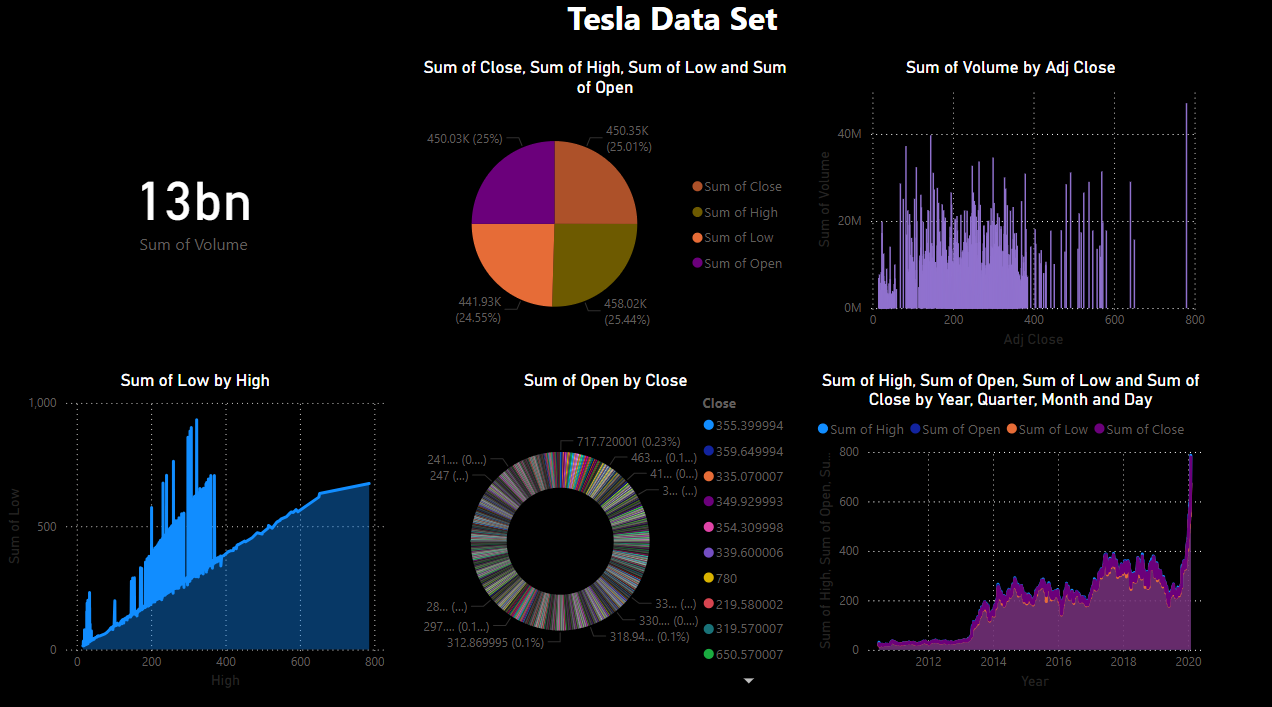

What the dashboard file says about the page in this screenshot:
{"tool":"powerbi","page":{"name":"Page 1","canvas":[1280,720],"ordinal":0},"visuals":[{"type":"card","fields":{"Values":["Sum(TSLA(in).Volume)"]},"box":[4.1,65.9,384.2,293.7],"z":0},{"type":"areaChart","fields":{"Category":["TSLA(in).High"],"Y":["Sum(TSLA(in).Low)"]},"box":[4.1,377.4,387,322.5],"z":1000},{"type":"donutChart","fields":{"Category":["TSLA(in).Close"],"Y":["Sum(TSLA(in).Open)"]},"box":[414.4,377.4,382.8,322.5],"z":2000},{"type":"pieChart","fields":{"Y":["Sum(TSLA(in).Close)","Sum(TSLA(in).High)","Sum(TSLA(in).Low)","Sum(TSLA(in).Open)"]},"box":[414.4,65.9,381.5,293.7],"z":3000},{"type":"areaChart","fields":{"Y":["Sum(TSLA(in).High)","Sum(TSLA(in).Open)","Sum(TSLA(in).Low)","Sum(TSLA(in).Close)"],"Category":["TSLA(in).Date.Variation.Date Hierarchy.Year","TSLA(in).Date.Variation.Date Hierarchy.Quarter","TSLA(in).Date.Variation.Date Hierarchy.Month","TSLA(in).Date.Variation.Date Hierarchy.Day"]},"box":[811,377.4,395.2,322.5],"z":4000},{"type":"clusteredColumnChart","fields":{"Category":["TSLA(in).Adj Close"],"Y":["Sum(TSLA(in).Volume)"]},"box":[809.6,65.9,397.9,293.7],"z":5000},{"type":"textbox","box":[238.8,0,875.5,65.9],"z":6000}]}

Visuals, with their boxes in screenshot pixels (x1, y1, x2, y2), scaled from the page's 1280x720 canvas onto the 1272x707 screenshot:
card - Sum(TSLA(in).Volume): pyautogui.locateOnScreen(4, 65, 386, 353)
areaChart - TSLA(in).High x Sum(TSLA(in).Low): pyautogui.locateOnScreen(4, 371, 389, 687)
donutChart - TSLA(in).Close x Sum(TSLA(in).Open): pyautogui.locateOnScreen(412, 371, 792, 687)
pieChart - Sum(TSLA(in).Close) x Sum(TSLA(in).High): pyautogui.locateOnScreen(412, 65, 791, 353)
areaChart - Sum(TSLA(in).High) x Sum(TSLA(in).Open): pyautogui.locateOnScreen(806, 371, 1199, 687)
clusteredColumnChart - TSLA(in).Adj Close x Sum(TSLA(in).Volume): pyautogui.locateOnScreen(805, 65, 1200, 353)
textbox: pyautogui.locateOnScreen(237, 0, 1107, 65)
